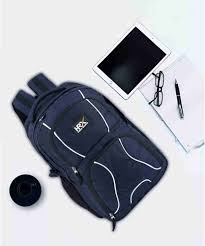backpack: (11, 71, 168, 231)
